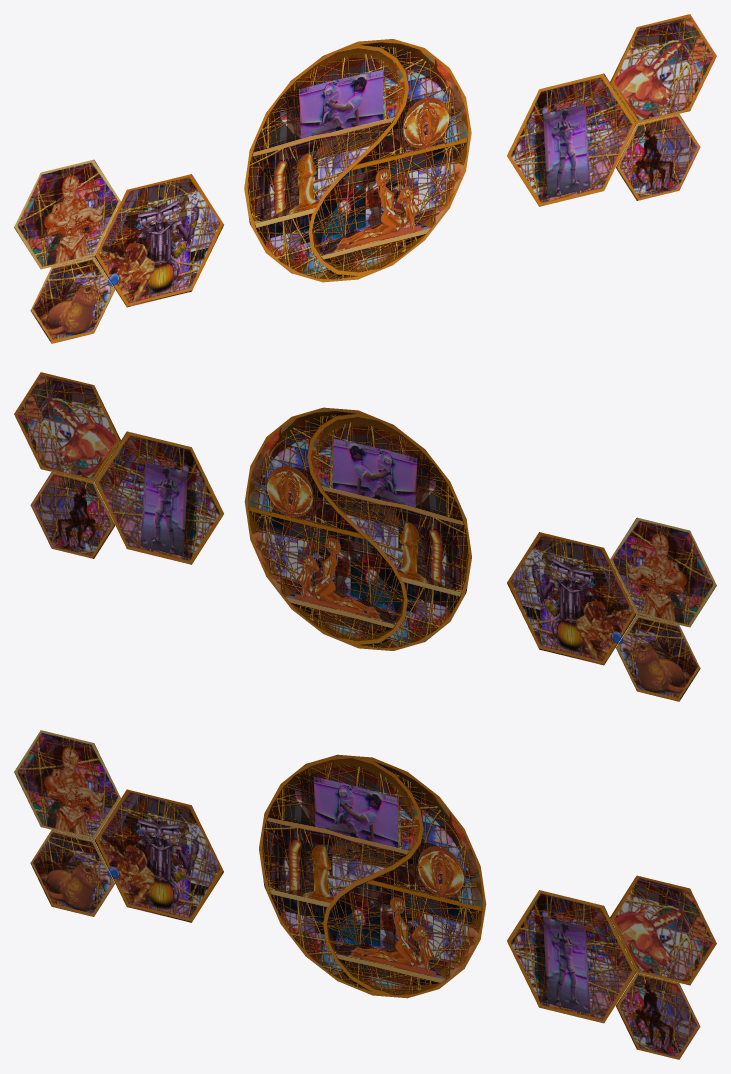
File: sextechmat2.glb
3 renders of one model, top to bottom at view 1: azimuth 30°, elevation 25°; view 2: azimuth 150°, elevation 25°; view 3: azimuth 330°, elevation 25°, orthographic.
Parts seen in each view (by area): view 1: CombinedMesh.001; view 2: CombinedMesh.001; view 3: CombinedMesh.001.
Boxes of the visible parts, bbox=[...] form: CombinedMesh.001: bbox=[14, 14, 716, 343]; CombinedMesh.001: bbox=[14, 372, 716, 701]; CombinedMesh.001: bbox=[14, 730, 716, 1059].
Bounding box in the file's own units: 7.1 × 2.3 × 0.129.
1 material, 1 textured.
